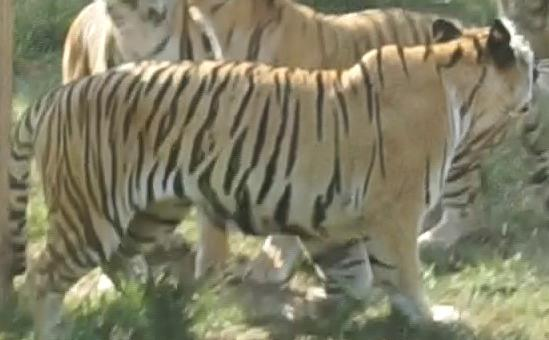tiger: (8, 0, 535, 339)
